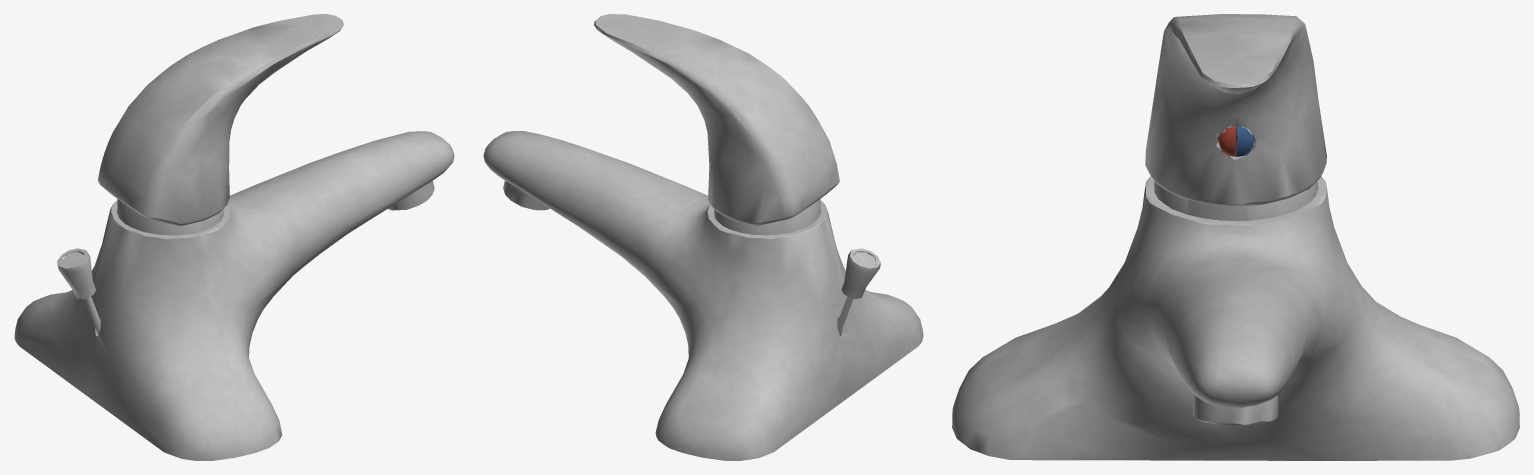
File: fixture_faucet_singlelever_a01.glb
3 views of the same model, side by side, from view 1: azimuth 30°, elevation 25°; view 2: azimuth 150°, elevation 25°; view 3: azimuth 270°, elevation 25° (orthographic). The views are drawn at different scales.
Parts seen in each view (by area): view 1: fixture_faucet_singlelever_a01_lod1; view 2: fixture_faucet_singlelever_a01_lod1; view 3: fixture_faucet_singlelever_a01_lod1.
Boxes of the visible parts, bbox=[...] form: fixture_faucet_singlelever_a01_lod1: bbox=[14, 14, 454, 460]; fixture_faucet_singlelever_a01_lod1: bbox=[483, 14, 923, 460]; fixture_faucet_singlelever_a01_lod1: bbox=[952, 14, 1519, 460].
Size of the model in its own units: 0.1712 by 0.1356 by 0.1472.
1 material, 1 textured.
